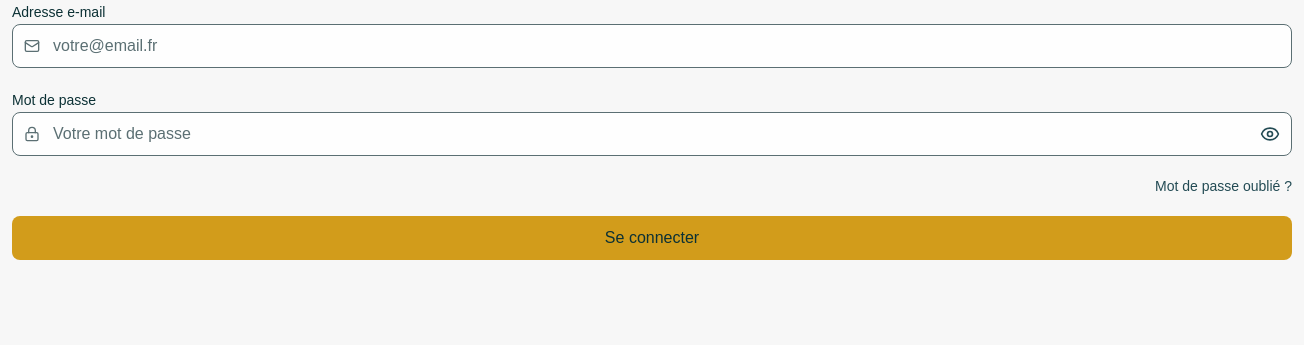
Scenario: LoginForm › affiche l'erreur renvoyée par l'API
The image size is (1304, 345).
Type "a@oriaa.test" into the field labelled "Adresse e-mail" at [652, 46], box [12, 24, 1292, 68]
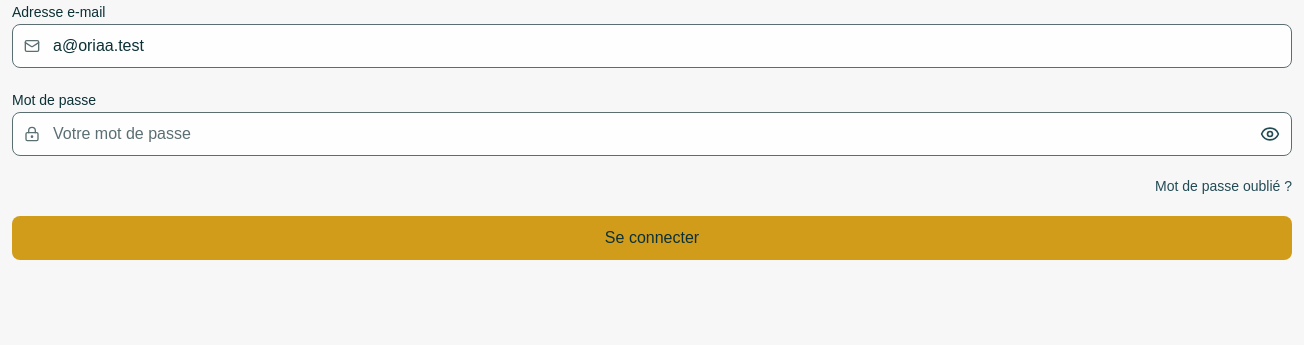
Type "mauvais" into the password field labelled "Mot de passe" at [652, 134], box [12, 112, 1292, 156]
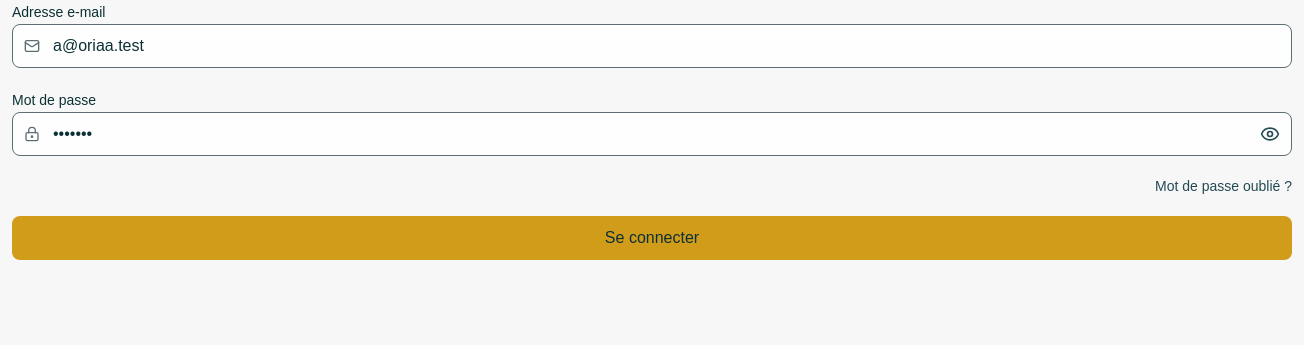
Click the button "Se connecter" at [652, 238], box [12, 216, 1292, 260]
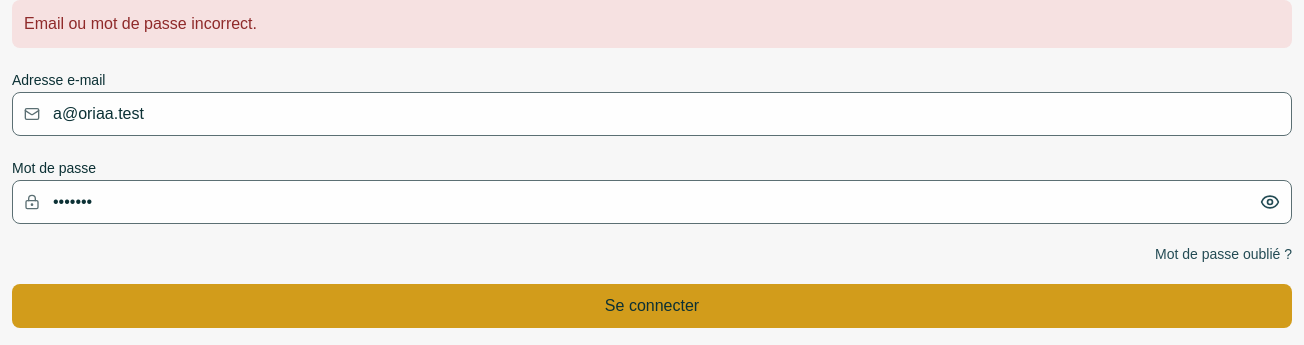
Expected: the message reads "Email ou mot de passe incorrect.", [24, 15, 257, 32]
